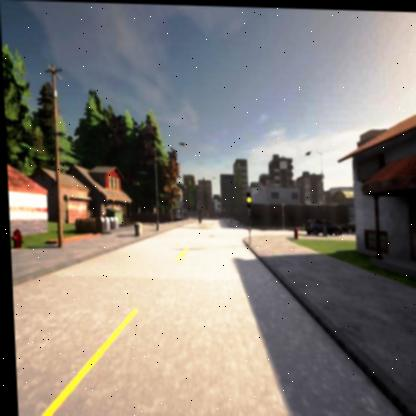vehicle: (303, 218, 341, 235)
